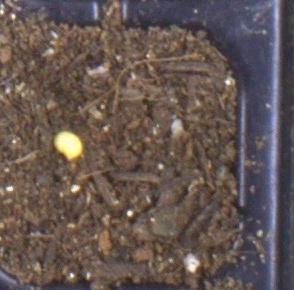chilli seed: (52, 130, 83, 160)
